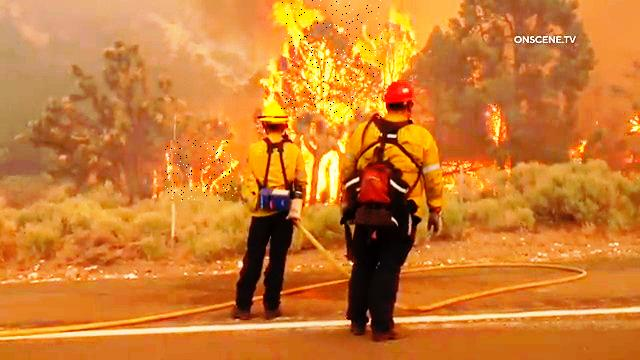fire: (280, 0, 383, 118), (166, 141, 234, 204)
